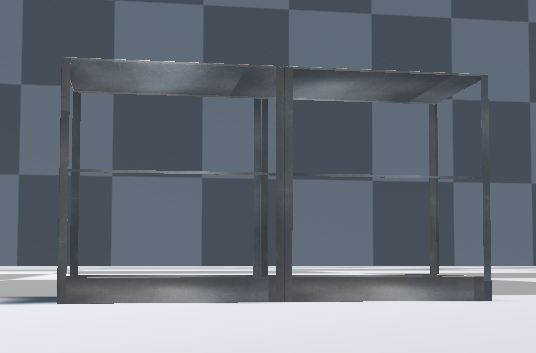Rack: (53, 50, 492, 303)
